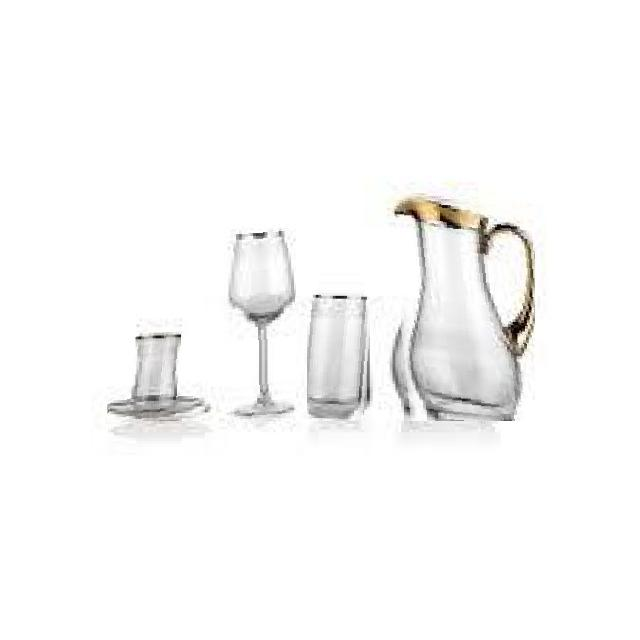Glass: (387, 191, 535, 421), (225, 230, 296, 423), (107, 332, 212, 424), (307, 292, 373, 419)
